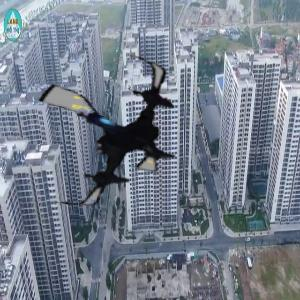drone: (20, 46, 192, 218)
